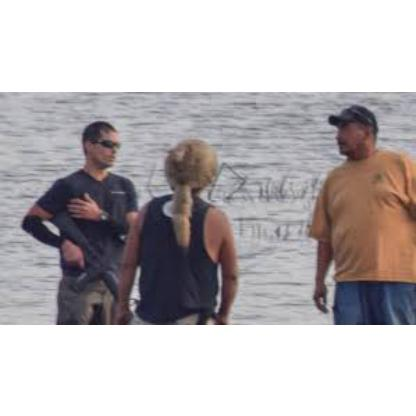gun: (41, 206, 129, 312)
